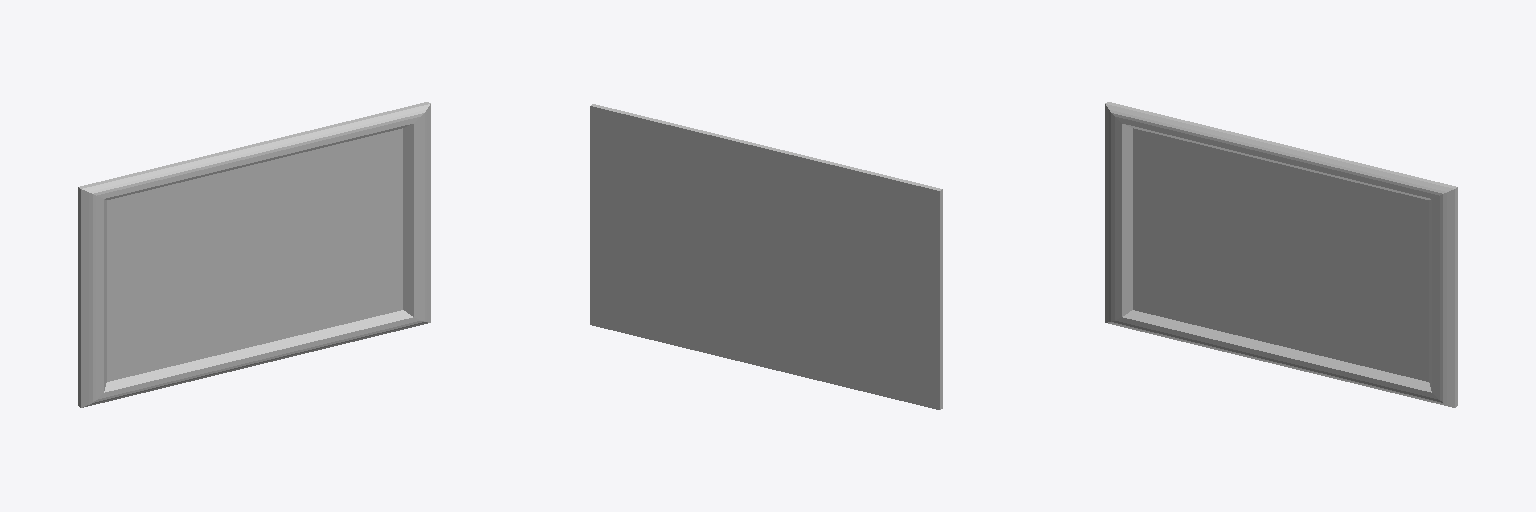
File: PictureFrame.obj
3 views of the same model, side by side, from view 1: azimuth 30°, elevation 25°; view 2: azimuth 150°, elevation 25°; view 3: azimuth 330°, elevation 25° (orthographic).
Parts seen in each view (by area): view 1: Cube_Cube.001; view 2: Cube_Cube.001; view 3: Cube_Cube.001.
Part boxes in pixels (x1,y1,x2,y2): Cube_Cube.001: (78, 102, 430, 407); Cube_Cube.001: (590, 104, 942, 409); Cube_Cube.001: (1105, 102, 1457, 407).
Bounding box in the file's own units: 4.03 × 2.41 × 0.1167.